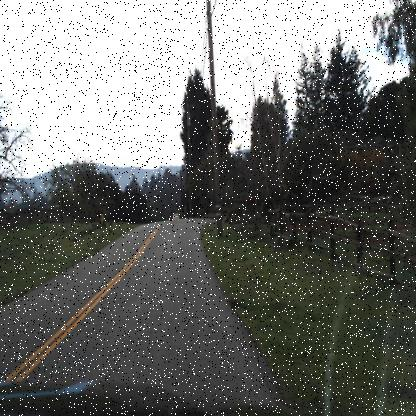car: (168, 207, 182, 224), (170, 208, 180, 219)
